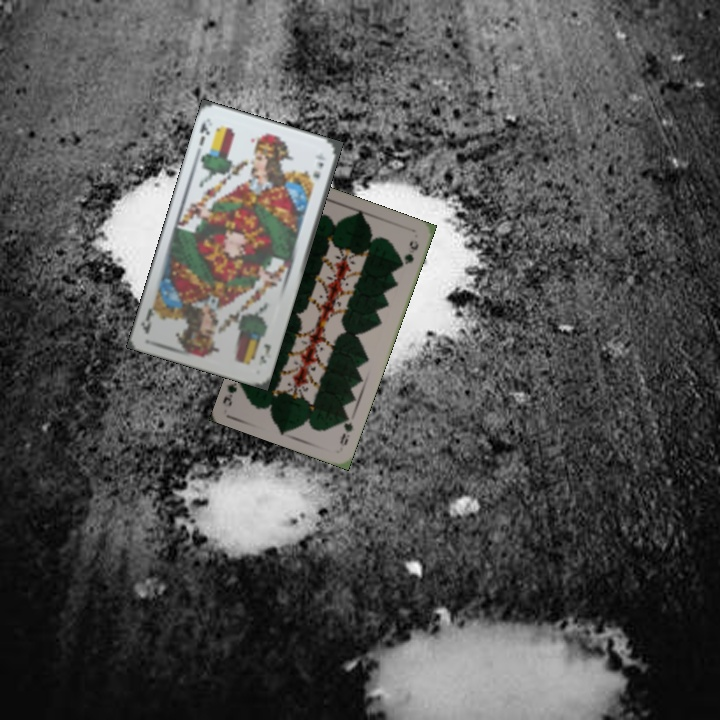EK: (195, 115, 213, 148), (255, 339, 274, 368)
G9: (336, 410, 356, 450)
